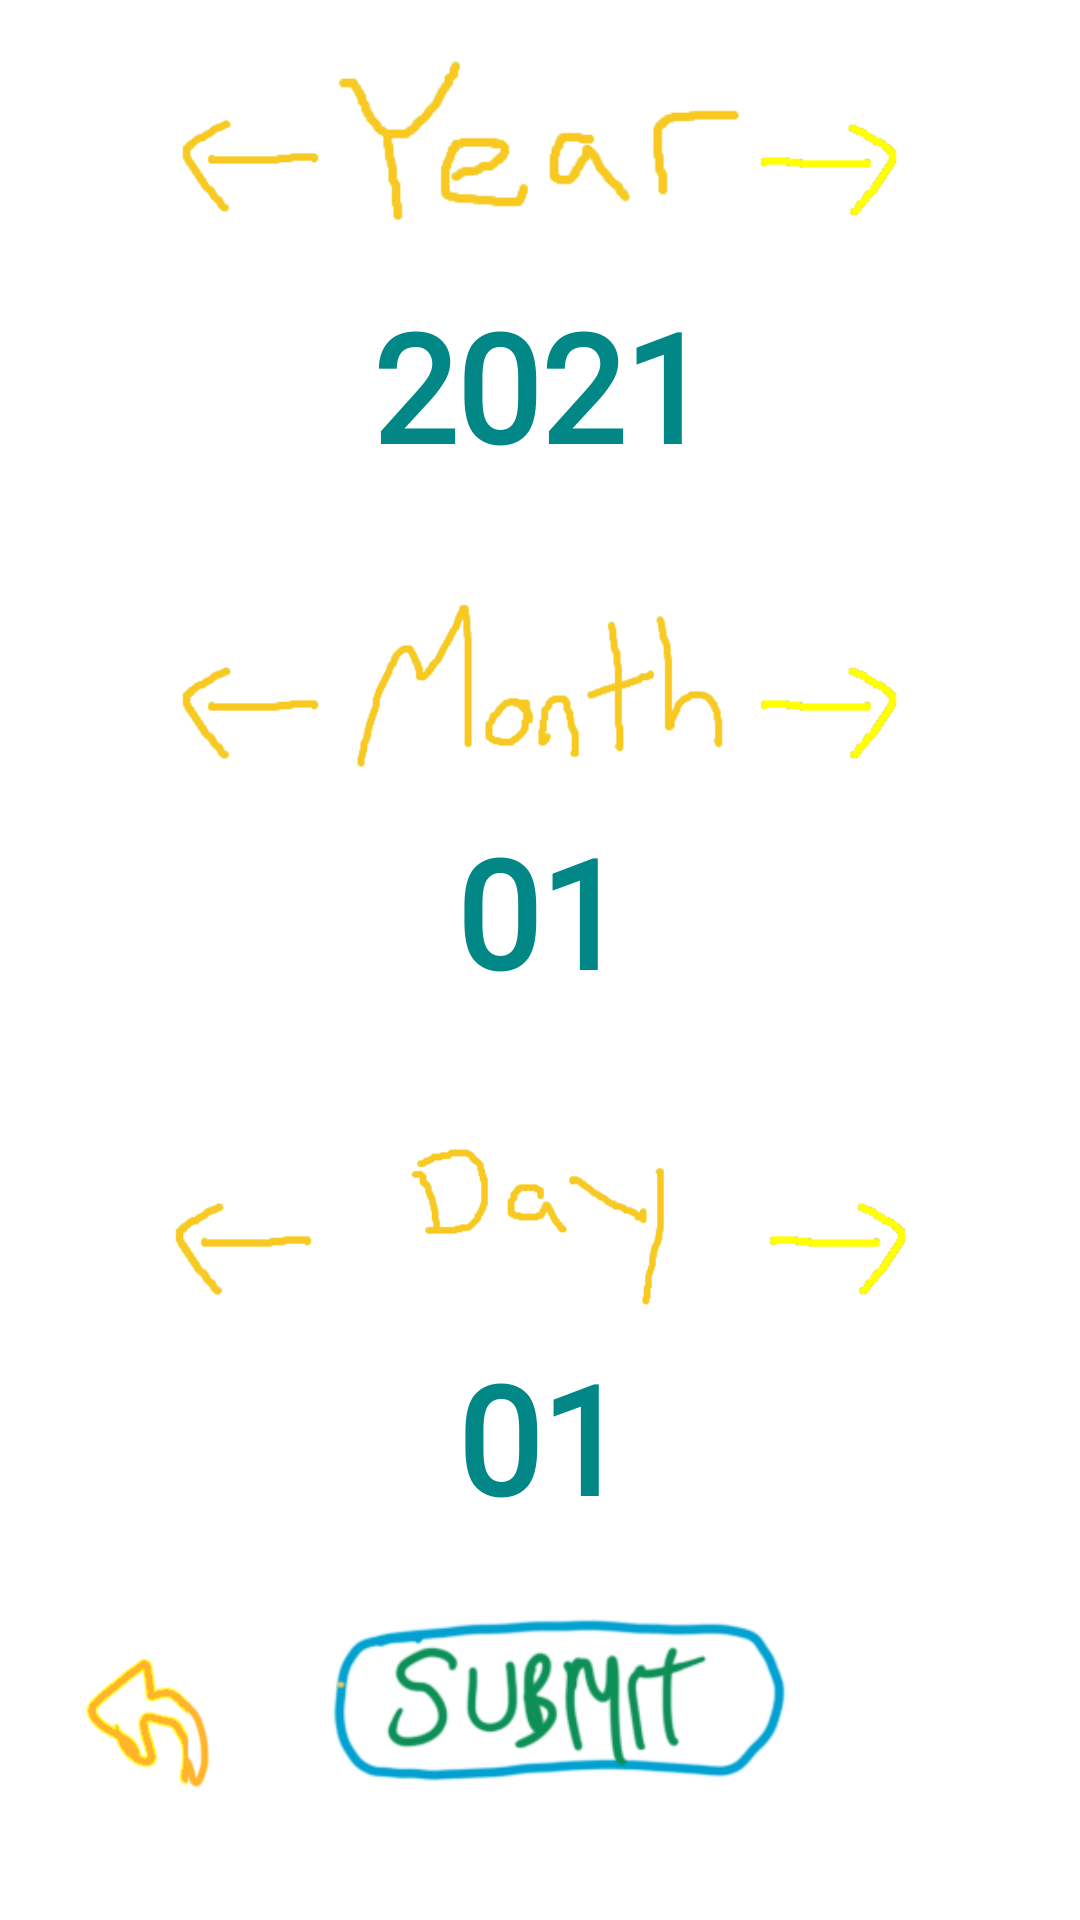

Icon click points for this 1080×1920 phone screenshot, format [x,y]:
arrow left: [250,166], [250,713], [243,1249]
arrow right: [828,170], [828,713], [837,1249]
go back: [147,1723]
